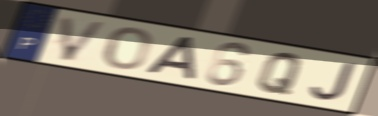6: (205, 42, 253, 89)
A: (142, 34, 198, 82)
J: (308, 61, 359, 103)
O: (102, 26, 153, 71)
Q: (255, 51, 306, 97)
V: (58, 14, 110, 64)
